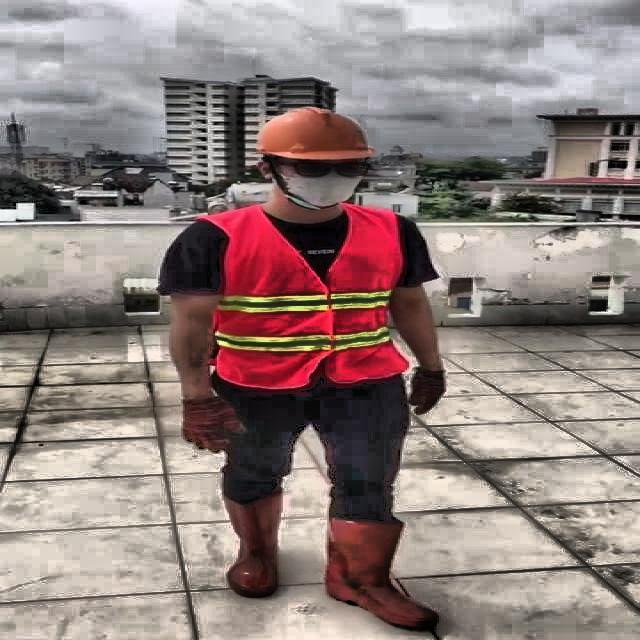safety_helmet: (248, 102, 380, 162)
safety_jacket: (208, 208, 411, 388)
